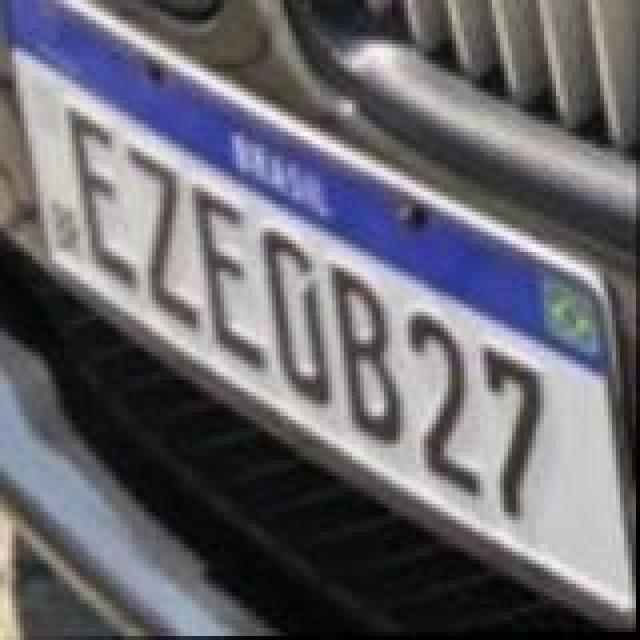2: (406, 304, 486, 500)
7: (482, 342, 546, 526)
B: (326, 260, 406, 452)
D: (260, 224, 336, 408)
E: (188, 182, 272, 374), (64, 104, 140, 292)
Z: (128, 140, 204, 336)
